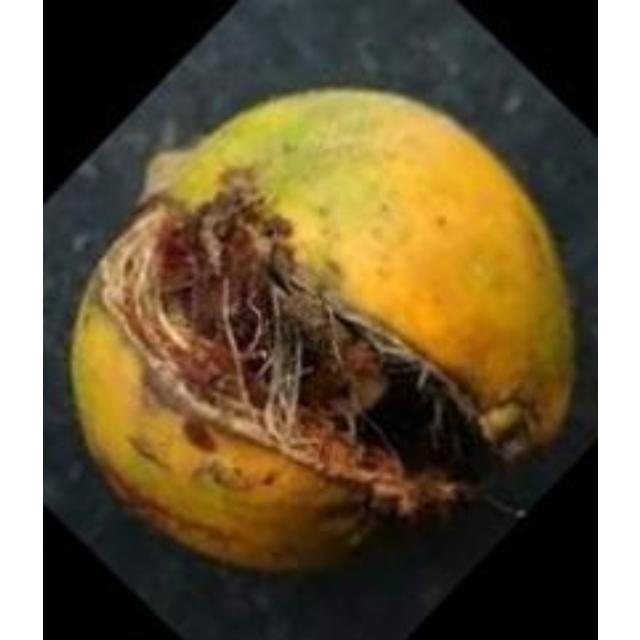damaged: (69, 88, 578, 579)
